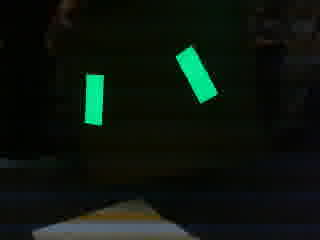target: (80, 44, 219, 126)
